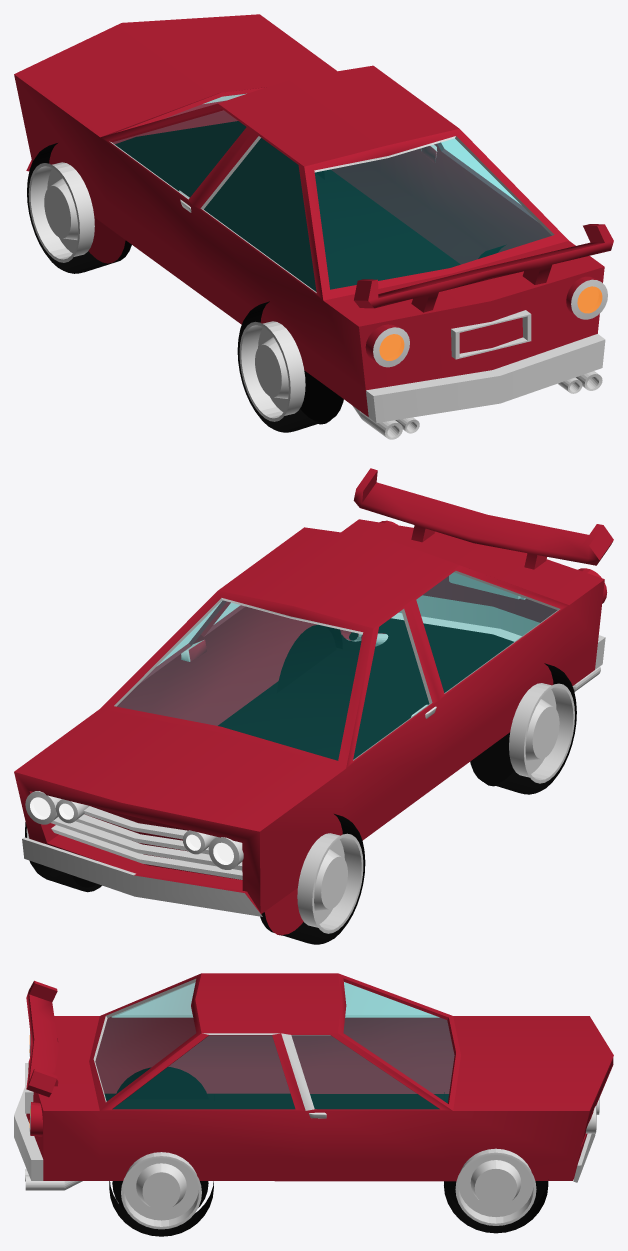
Rendered from redLowPolyCar.glb.
The picture shows the model from 3 angles, top to bottom: view 1: azimuth 30°, elevation 25°; view 2: azimuth 150°, elevation 25°; view 3: azimuth 270°, elevation 25°; orthographic projection. The views are drawn at different scales.
Visible parts, largest first — view 1: Cube; view 2: Cube; view 3: Cube.
Part boxes in pixels (<box>): Cube: <box>14,14,613,439</box>; Cube: <box>14,468,613,944</box>; Cube: <box>14,973,613,1236</box>.
Size of the model in its own units: 6.47 by 5.08 by 14.76.
